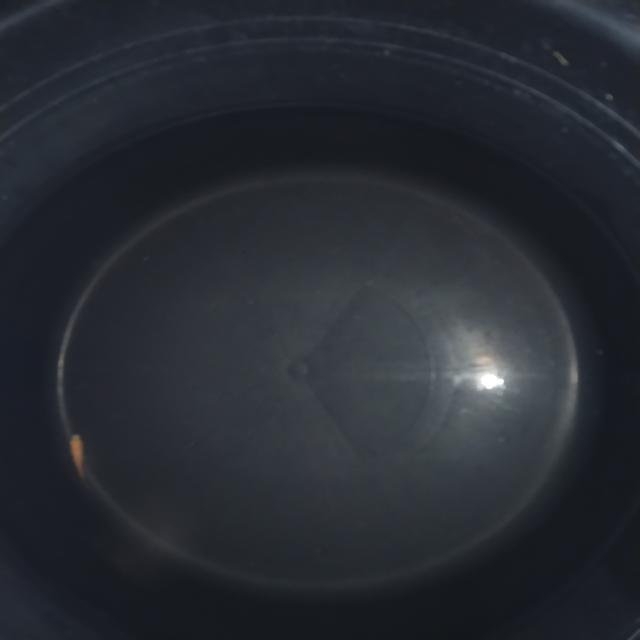nila: (66, 430, 92, 482)
